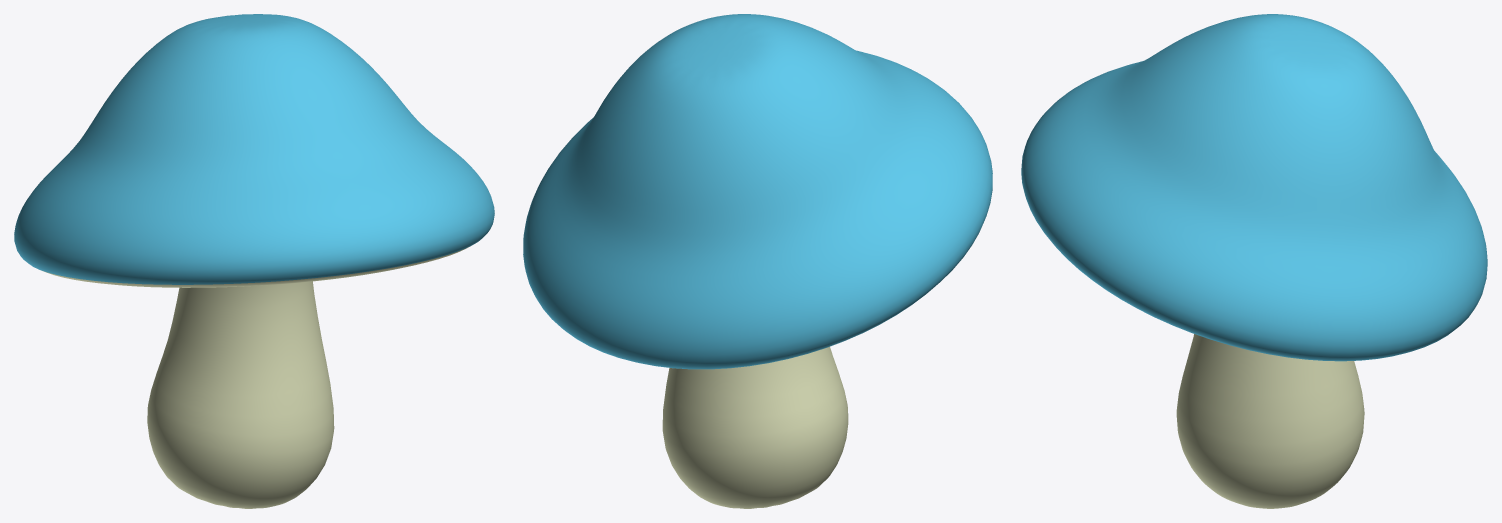
Rendered from S1_mod_MushroomPart_000.FBX.
3 views of the same model, side by side, from view 1: azimuth 30°, elevation 25°; view 2: azimuth 150°, elevation 25°; view 3: azimuth 270°, elevation 25° (orthographic).
Visible parts, largest first — view 1: Mushroom_1; view 2: Mushroom_1; view 3: Mushroom_1.
Part boxes in pixels (x1,y1,x2,y2): Mushroom_1: (14,14,494,508); Mushroom_1: (523,14,992,508); Mushroom_1: (1021,14,1487,508).
Size of the model in its own units: 1928 by 2077 by 1877.
